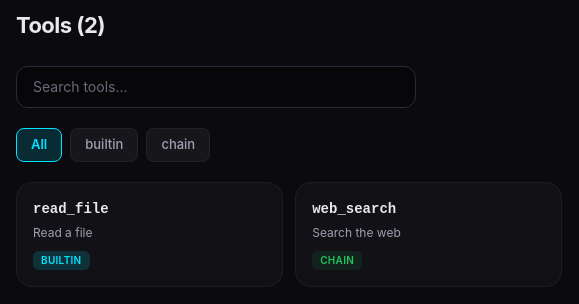
Test case: ToolsPage › filters tools by type
This screenshot has width=579, height=304.
// Click the "chain" type filter button
Click the button "chain".
click(178, 145)  # box top-left (146, 128), bottom-right (210, 162)
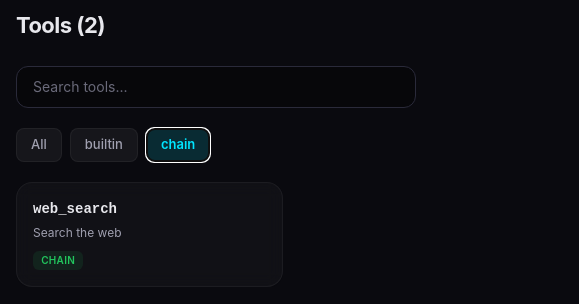
Check: the text "web_search" is shown, box top-left (33, 200), bottom-right (117, 216)
Check: the button "read_file" is gone
